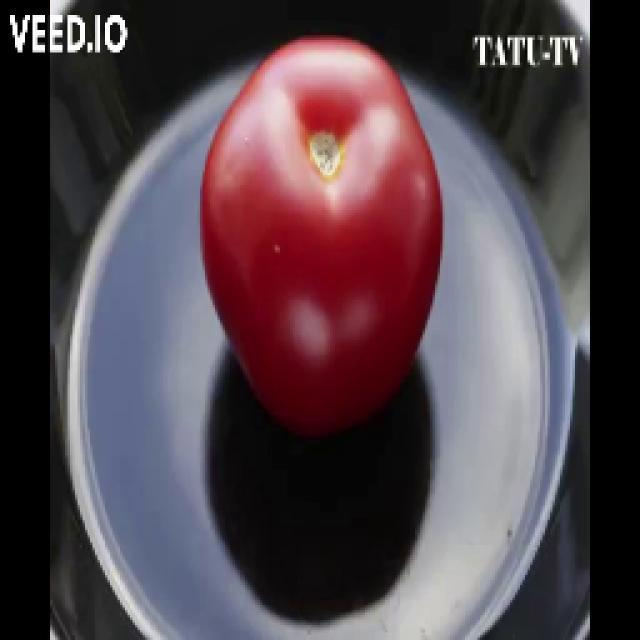tomato: (199, 37, 444, 443)
